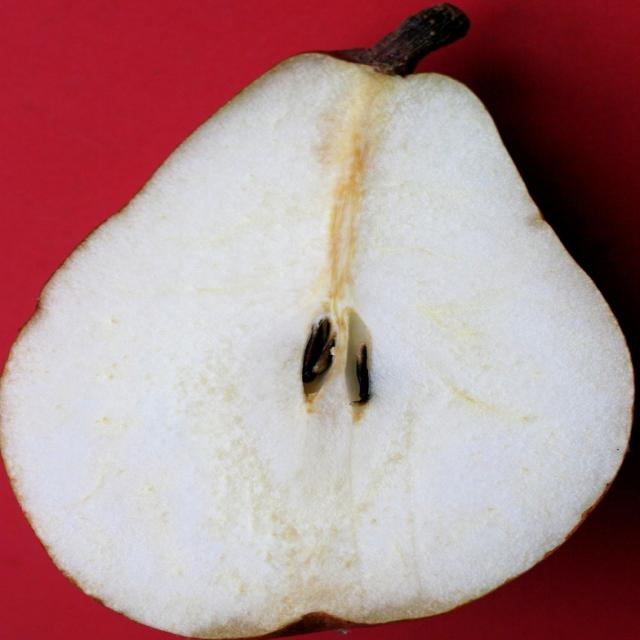pear: (0, 46, 635, 639)
